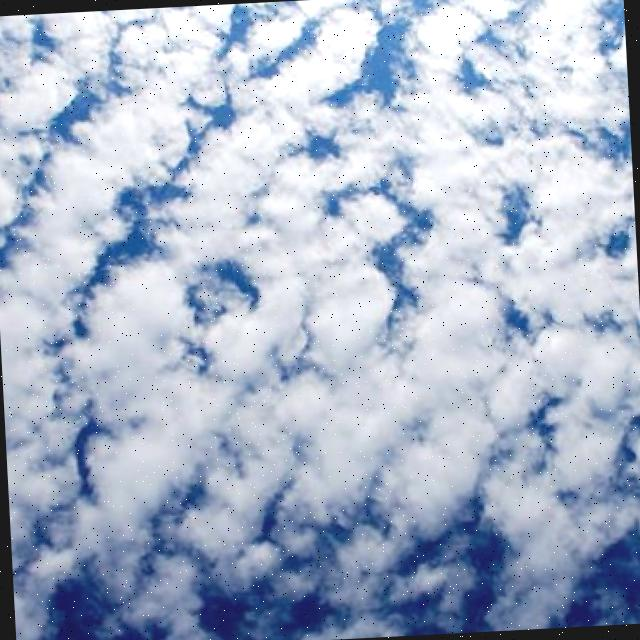Ac: (1, 1, 640, 632)
